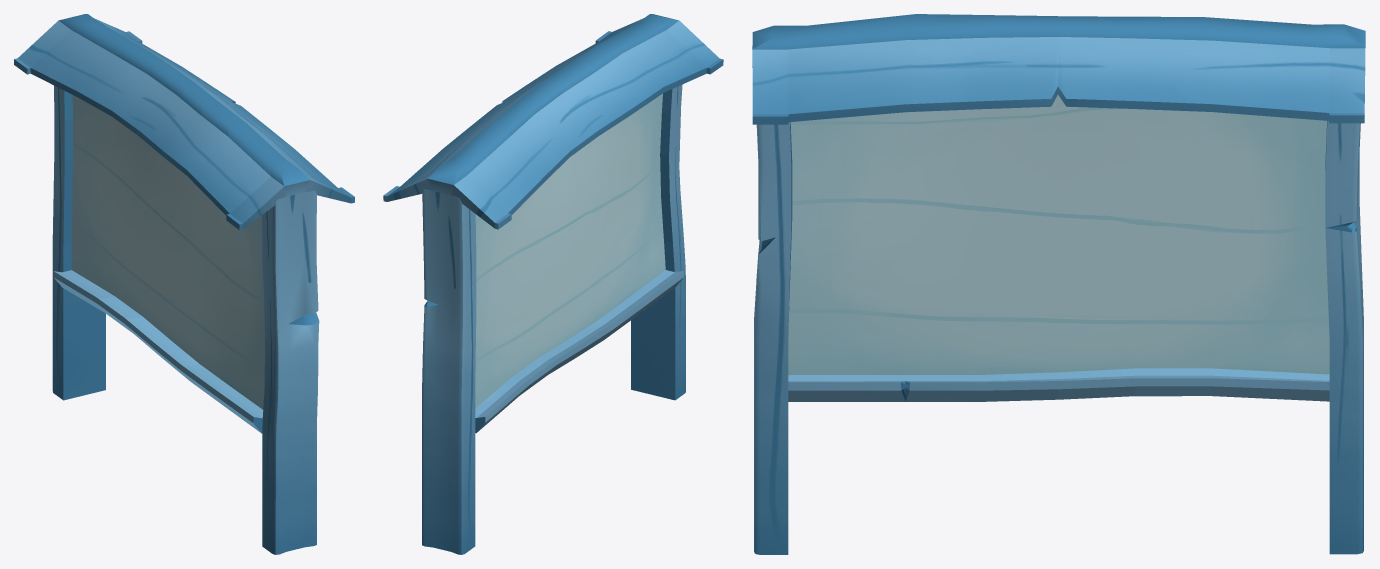
File: Quest.fbx
3 views of the same model, side by side, from view 1: azimuth 30°, elevation 25°; view 2: azimuth 150°, elevation 25°; view 3: azimuth 270°, elevation 25° (orthographic). The views are drawn at different scales.
Parts seen in each view (by area): view 1: pCube1; view 2: pCube1; view 3: pCube1.
Part boxes in pixels (box(x1,y1,x2,y2)): pCube1: box(14, 14, 354, 554); pCube1: box(383, 14, 723, 554); pCube1: box(752, 14, 1365, 554).
Size of the model in its own units: 0.7692 by 2.44 by 2.6.
